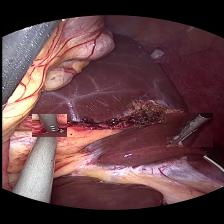Grasper: (166, 113, 212, 147)
Irrigator: (31, 114, 66, 137)
Specimen Bag: (148, 47, 168, 63)
